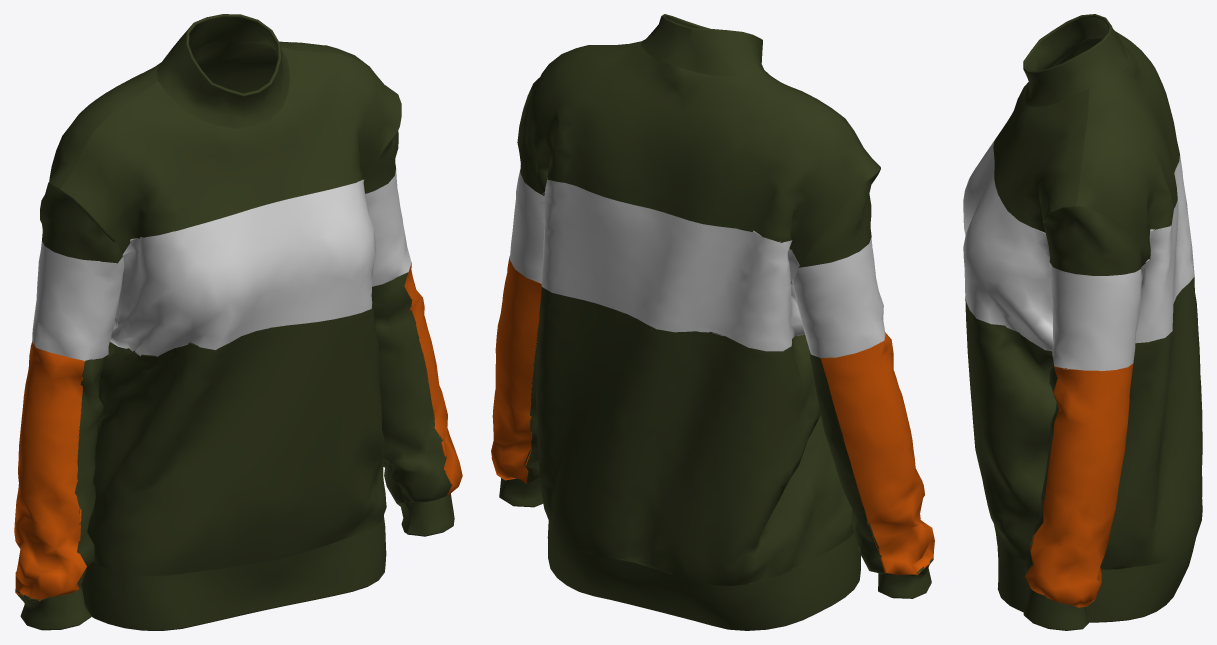
3 renders of one model, left to right at view 1: azimuth 30°, elevation 25°; view 2: azimuth 150°, elevation 25°; view 3: azimuth 270°, elevation 25°, orthographic. The views are drawn at different scales.
Parts seen in each view (by area): view 1: Pattern2D_3692580, Pattern2D_3627920, Pattern2D_3628178, Pattern2D_3817910, Pattern2D_3648941, Pattern2D_3741299, Pattern2D_3739184, Pattern2D_3637876, Pattern2D_3634939, Pattern2D_3630701, Pattern2D_3648891, Pattern2D_3638224 (+4 smaller); view 2: Pattern2D_3692761, Pattern2D_3634939, Pattern2D_3635177, Pattern2D_3817910, Pattern2D_3648941, Pattern2D_3741476, Pattern2D_3637876, Pattern2D_3739184, Pattern2D_3692580, Pattern2D_3648309, Pattern2D_3630701, Pattern2D_3638224 (+4 smaller); view 3: Pattern2D_3692761, Pattern2D_3741476, Pattern2D_3692580, Pattern2D_3634939, Pattern2D_3628178, Pattern2D_3627920, Pattern2D_3638224, Pattern2D_3739184, Pattern2D_3817910, Pattern2D_3635177, Pattern2D_3631058, Pattern2D_3742323 (+1 smaller).
Part boxes in pixels (bbox=[...]): Pattern2D_3692580: bbox=[87, 304, 386, 575]; Pattern2D_3627920: bbox=[60, 47, 401, 253]; Pattern2D_3628178: bbox=[110, 179, 375, 356]; Pattern2D_3817910: bbox=[81, 515, 386, 630]; Pattern2D_3648941: bbox=[14, 342, 86, 601]; Pattern2D_3741299: bbox=[371, 272, 452, 502]; Pattern2D_3739184: bbox=[157, 14, 289, 128]; Pattern2D_3637876: bbox=[32, 241, 124, 361]; Pattern2D_3634939: bbox=[48, 40, 394, 188]; Pattern2D_3630701: bbox=[40, 182, 122, 263]; Pattern2D_3648891: bbox=[74, 355, 108, 588]; Pattern2D_3638224: bbox=[365, 168, 411, 286]; Pattern2D_3692761: bbox=[536, 287, 820, 585]; Pattern2D_3634939: bbox=[526, 41, 879, 265]; Pattern2D_3635177: bbox=[541, 178, 804, 351]; Pattern2D_3817910: bbox=[547, 521, 860, 630]; Pattern2D_3648941: bbox=[820, 332, 934, 575]; Pattern2D_3741476: bbox=[491, 256, 541, 483]; Pattern2D_3637876: bbox=[792, 237, 885, 357]; Pattern2D_3739184: bbox=[641, 14, 770, 76]; Pattern2D_3692580: bbox=[804, 416, 854, 557]; Pattern2D_3648309: bbox=[809, 350, 886, 574]; Pattern2D_3630701: bbox=[798, 168, 880, 267]; Pattern2D_3638224: bbox=[509, 170, 544, 283]; Pattern2D_3692761: bbox=[1100, 277, 1202, 569]; Pattern2D_3741476: bbox=[1025, 364, 1133, 607]; Pattern2D_3692580: bbox=[965, 296, 1056, 560]; Pattern2D_3634939: bbox=[1074, 31, 1179, 266]; Pattern2D_3628178: bbox=[963, 139, 1052, 351]; Pattern2D_3627920: bbox=[993, 46, 1089, 232]; Pattern2D_3638224: bbox=[1049, 262, 1141, 371]; Pattern2D_3739184: bbox=[1023, 14, 1129, 106]; Pattern2D_3817910: bbox=[994, 524, 1195, 622]; Pattern2D_3635177: bbox=[1135, 155, 1194, 343]; Pattern2D_3631058: bbox=[1043, 206, 1141, 275]; Pattern2D_3742323: bbox=[1023, 586, 1088, 630].
Bounding box in the file's own units: 57.14 × 71 × 28.73.
